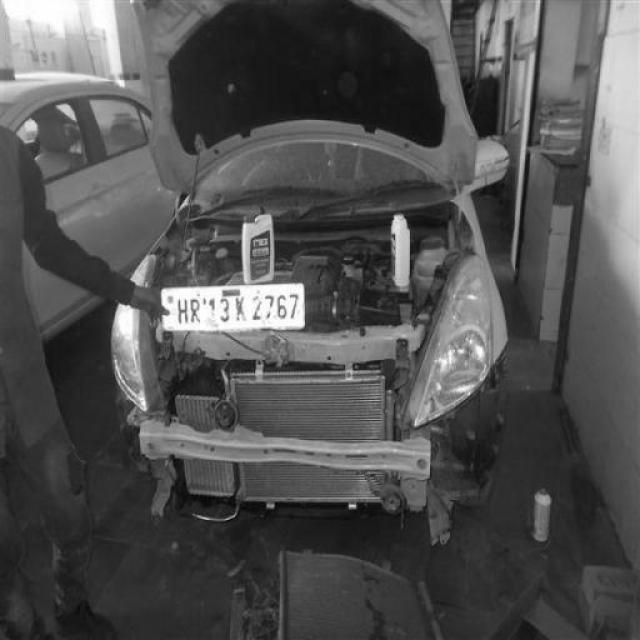crush: (122, 297, 503, 520)
